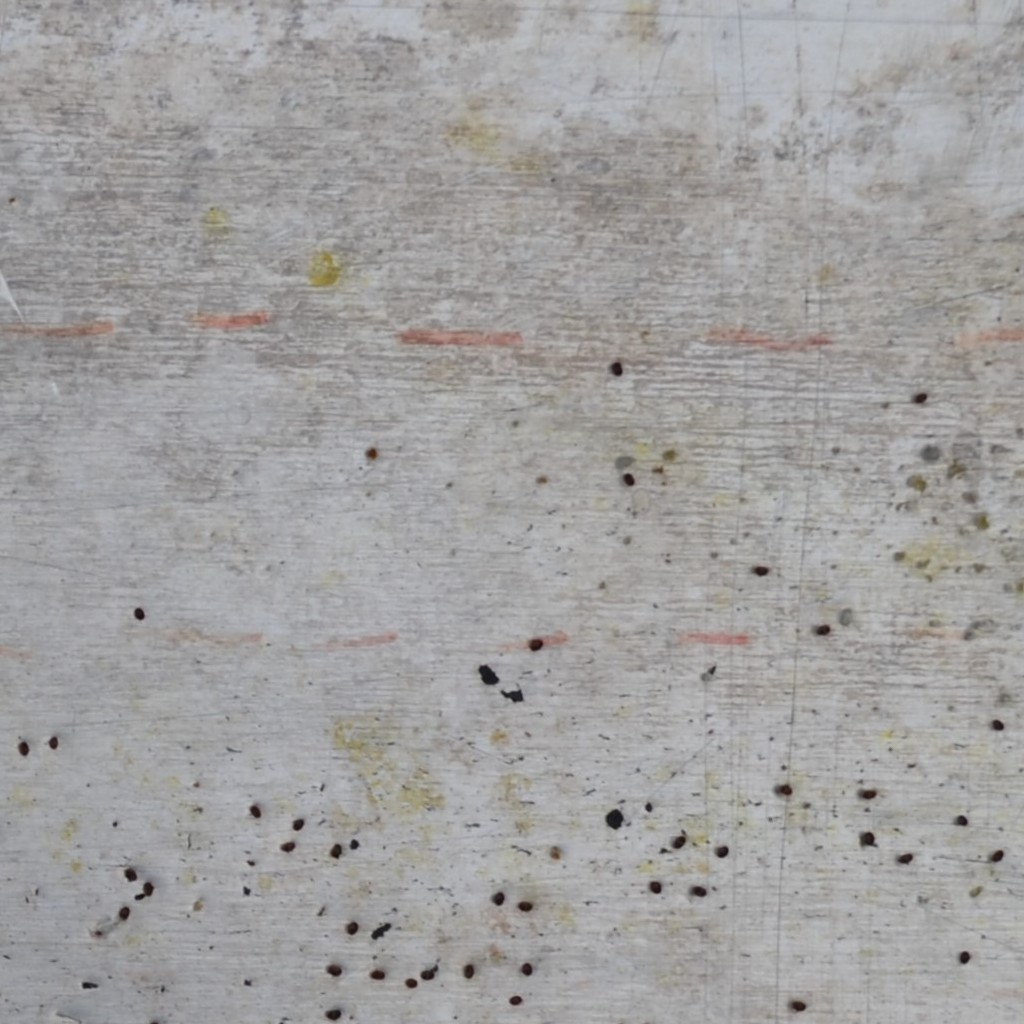varroa: (858, 828, 879, 854), (774, 780, 797, 799), (526, 634, 545, 657), (813, 619, 832, 641), (347, 831, 362, 858), (750, 561, 771, 580), (859, 783, 878, 803), (910, 388, 929, 407), (669, 831, 688, 850), (989, 714, 1006, 735), (647, 876, 663, 898), (324, 1002, 342, 1021), (897, 849, 917, 866), (325, 960, 345, 977), (291, 814, 307, 835), (123, 865, 139, 886), (507, 990, 524, 1008), (246, 802, 263, 820), (790, 997, 809, 1013), (689, 884, 709, 899), (603, 805, 623, 820), (604, 817, 625, 831), (609, 359, 625, 377), (713, 843, 731, 859), (519, 959, 535, 977), (16, 738, 31, 757), (463, 961, 476, 982), (490, 889, 506, 906), (953, 810, 968, 828), (420, 967, 438, 982), (369, 966, 388, 980), (989, 847, 1005, 863), (46, 732, 60, 750), (329, 842, 343, 860), (279, 840, 297, 854), (142, 878, 154, 899), (118, 904, 131, 923), (131, 605, 147, 620), (517, 900, 535, 913), (404, 975, 419, 990), (958, 949, 972, 965), (622, 469, 636, 485), (345, 919, 359, 935)
